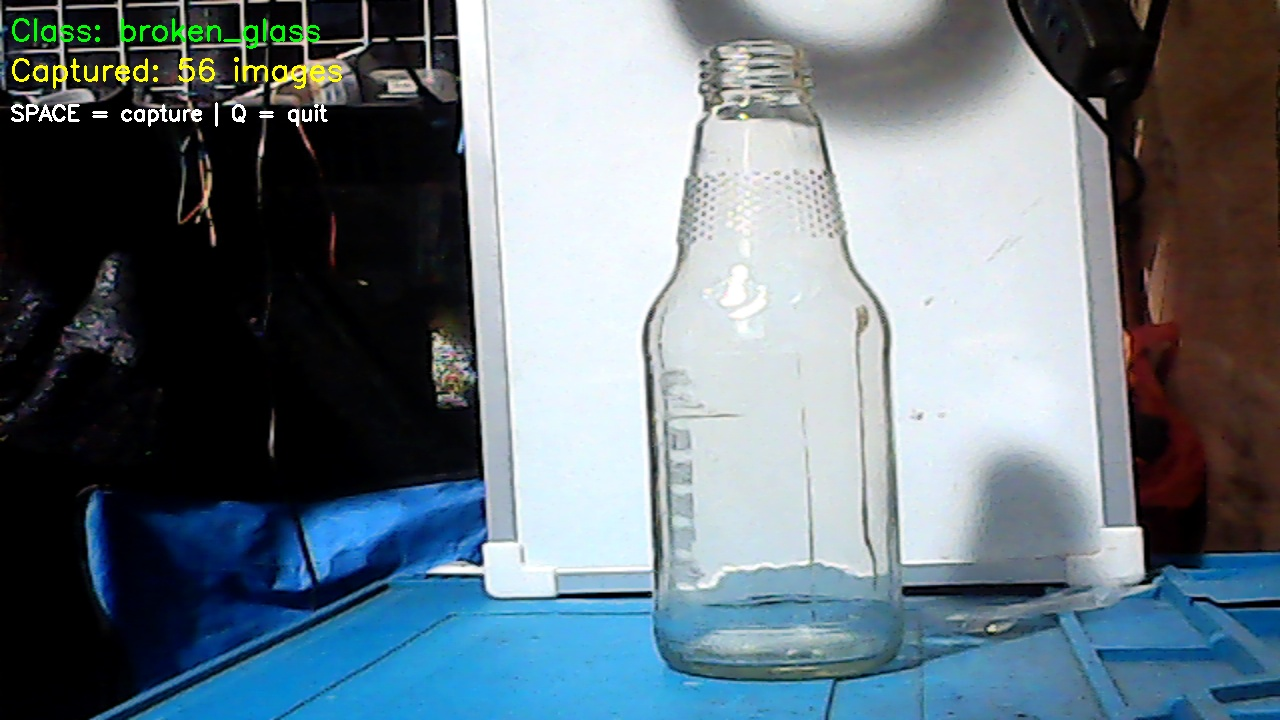broken_glass: (615, 48, 916, 677)
